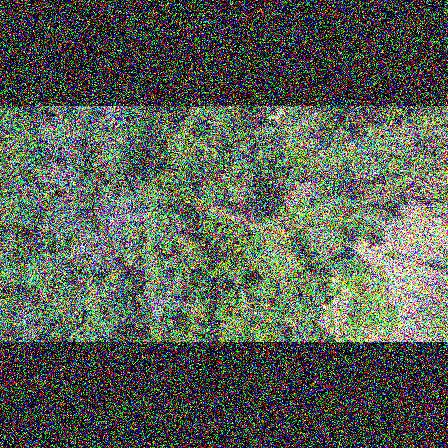Dead: (104, 186, 151, 256), (138, 289, 192, 327), (38, 126, 93, 163), (34, 209, 83, 248), (12, 304, 57, 339), (77, 230, 114, 272), (39, 169, 84, 197), (233, 287, 265, 318)
